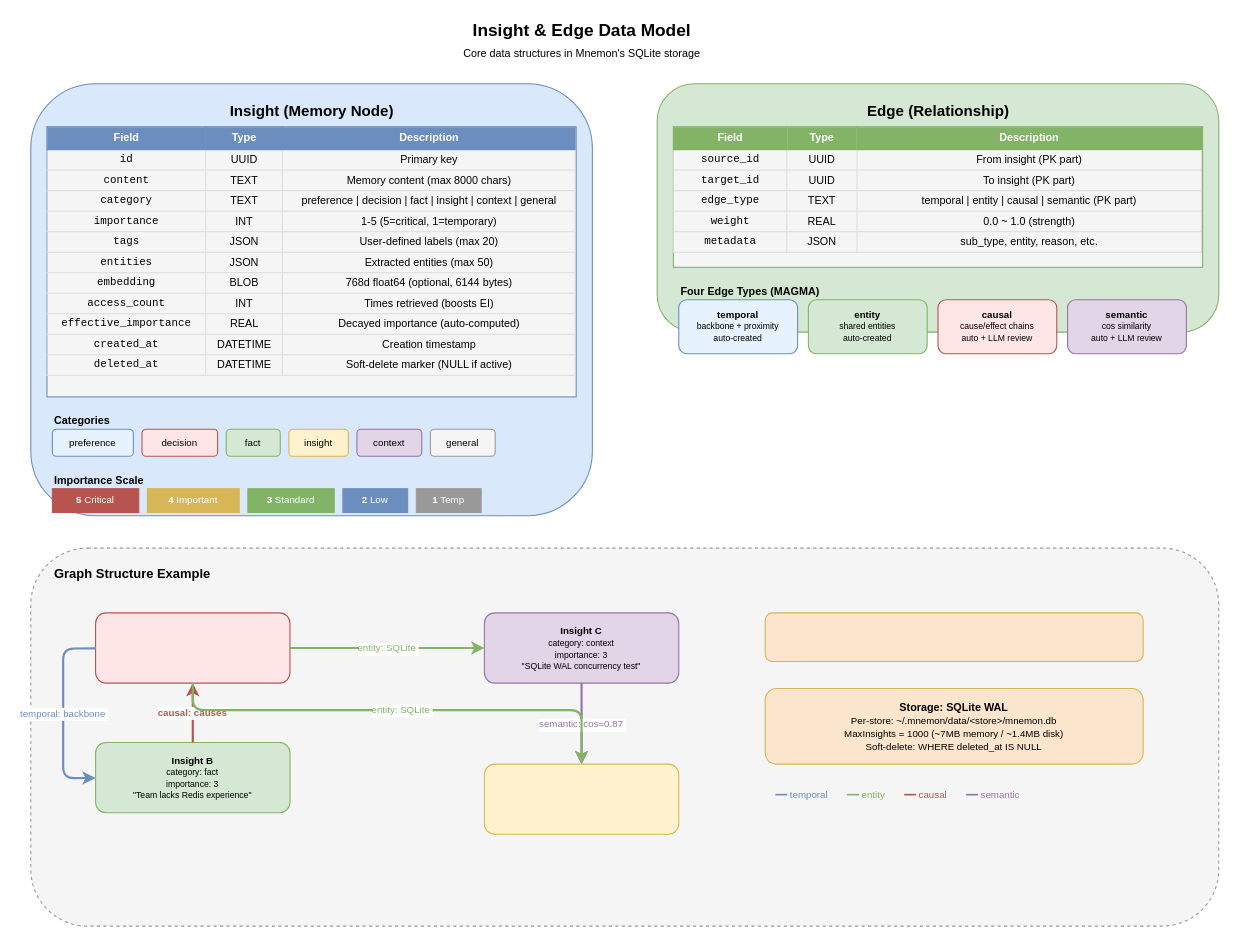
The diagram is 1238 pixels wide and 945 high, and some of its shapes have lost their labels. Each missing label, with the box of its shape:
Insight A category: decision importance: 5 "Choose SQLite for storage": (94, 612, 290, 683)
Insight D category: insight importance: 4 "DB comparison report": (483, 763, 679, 834)
OpLog (Audit Trail) id | operation | insight_id | detail | created_at: (764, 612, 1143, 662)
